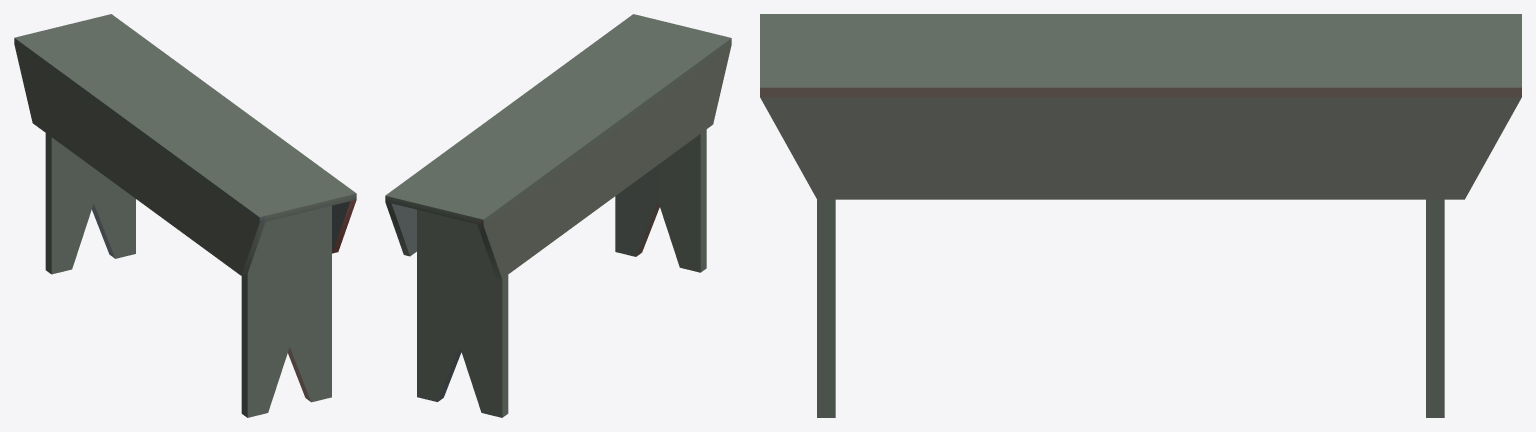
File: siedzisko1.fbx
3 renders of one model, left to right at view 1: azimuth 30°, elevation 25°; view 2: azimuth 150°, elevation 25°; view 3: azimuth 270°, elevation 25°, orthographic. The views are drawn at different scales.
Visible parts, largest first — view 1: Mesh; view 2: Mesh; view 3: Mesh.
Part boxes in pixels (box(x1,y1,x2,y2)): Mesh: box(14, 14, 356, 417); Mesh: box(385, 14, 731, 417); Mesh: box(760, 14, 1521, 417).
Size of the model in its own units: 27.91 by 59.18 by 122.
